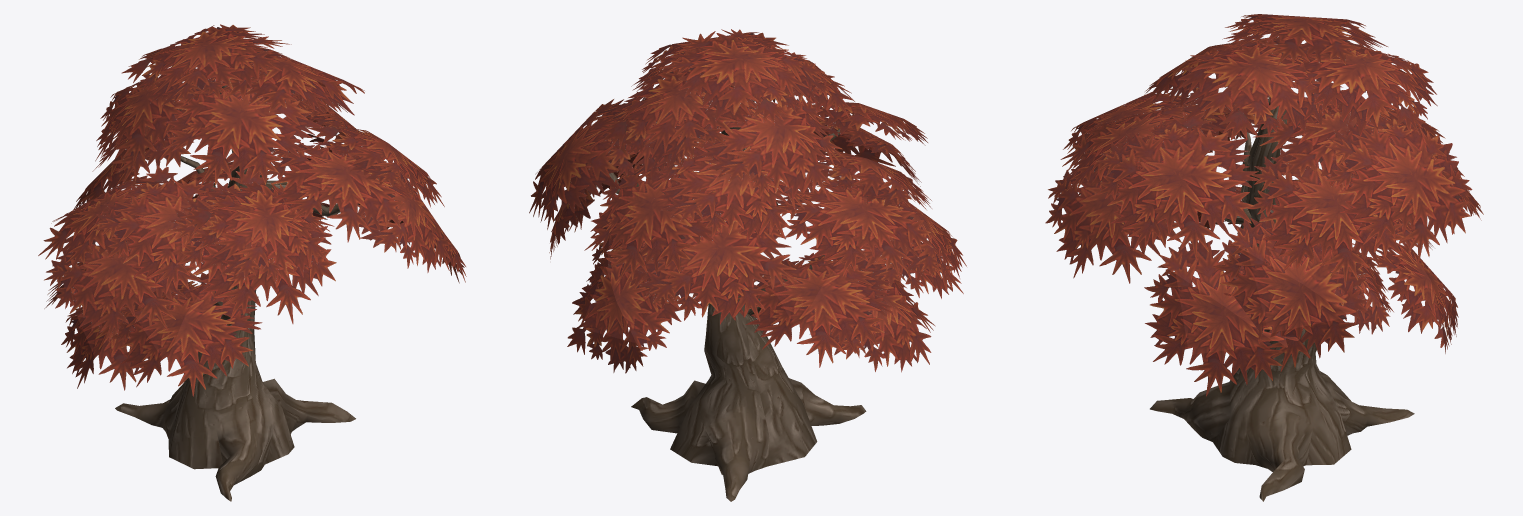
Rendered from Pla_fengshu.FBX.
3 renders of one model, left to right at view 1: azimuth 30°, elevation 25°; view 2: azimuth 150°, elevation 25°; view 3: azimuth 270°, elevation 25°, orthographic. The views are drawn at different scales.
Parts seen in each view (by area): view 1: Pla_fengshu; view 2: Pla_fengshu; view 3: Pla_fengshu.
Part boxes in pixels (x1,y1,x2,y2): Pla_fengshu: [38, 24, 466, 501]; Pla_fengshu: [529, 29, 966, 501]; Pla_fengshu: [1045, 14, 1483, 501].
Bounding box in the file's own units: 9.9 × 9.19 × 9.76.
